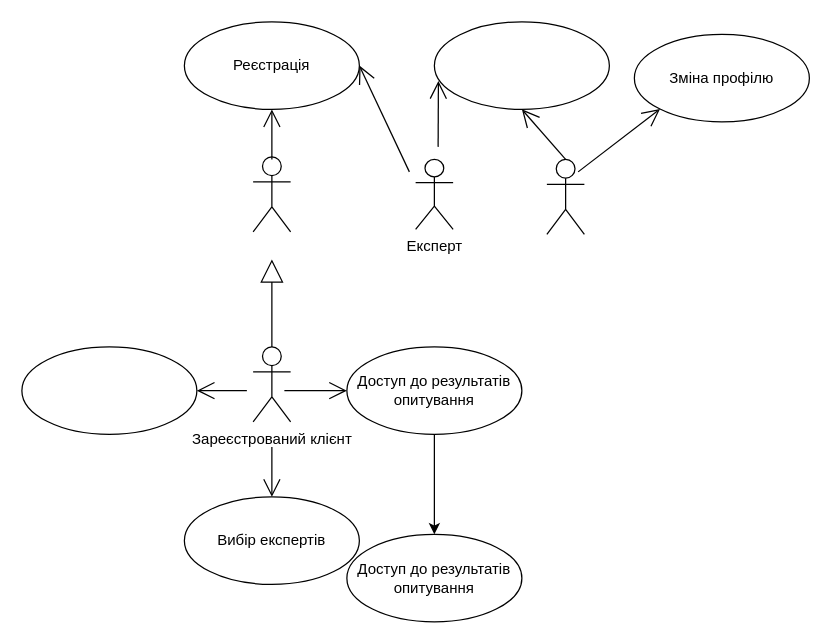
This 831x644 diagram has some shape labels left out. The centre of each missing label's shape, as x and y in pixels:
Зареєстрований експерт: (565,196)
Клієнт: (271,194)
Проходження опитування: (521,65)
Створення опитування: (109,390)
